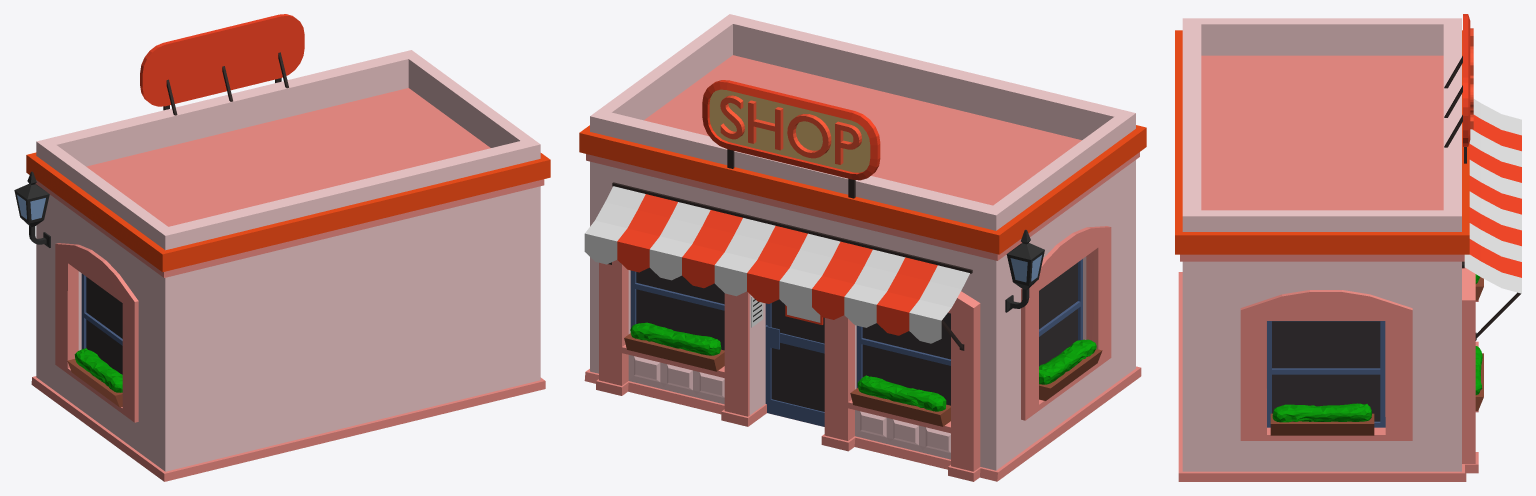
Rendered from shop-business.glb.
3 renders of one model, left to right at view 1: azimuth 30°, elevation 25°; view 2: azimuth 150°, elevation 25°; view 3: azimuth 270°, elevation 25°, orthographic. The views are drawn at different scales.
Visible parts, largest first — view 1: shop-business_body; view 2: shop-business_body; view 3: shop-business_body.
Part boxes in pixels (<box>): shop-business_body: <box>14,14,550,481</box>; shop-business_body: <box>579,14,1146,481</box>; shop-business_body: <box>1175,14,1521,481</box>.
Size of the model in its own units: 6 by 4.3 by 4.04.
Materials: 1 (1 with a texture image).
